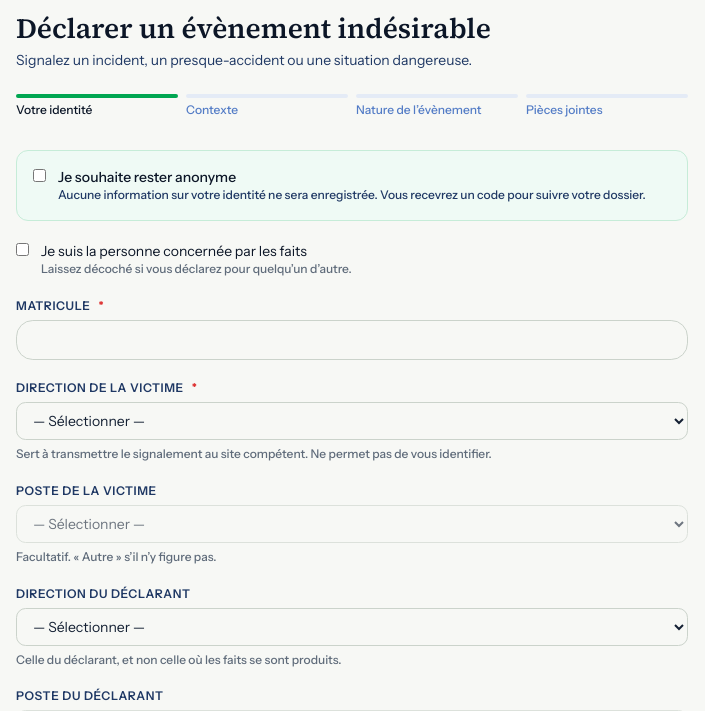
Scenario: Poste dépendant de la direction › ne propose que les postes de la direction retenue
Step 1. Select "Direction Exploitation" in the dropdown labelled "Direction de la victime *" → (352, 421), box [16,402,688,440]
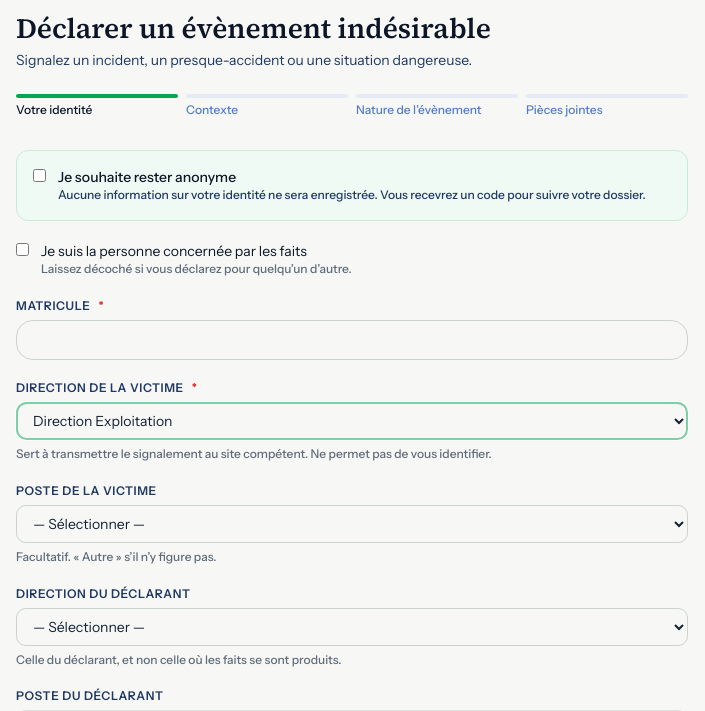
Now the dropdown labelled "Poste de la victime" is enabled, box [16,505,688,543]
